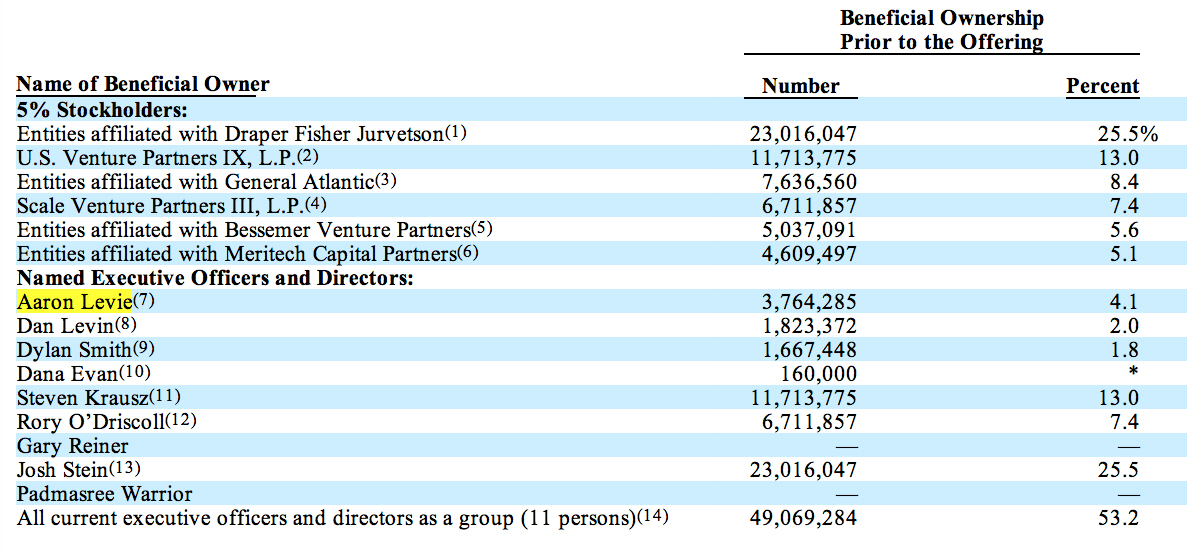table: (13, 68, 1182, 537)
